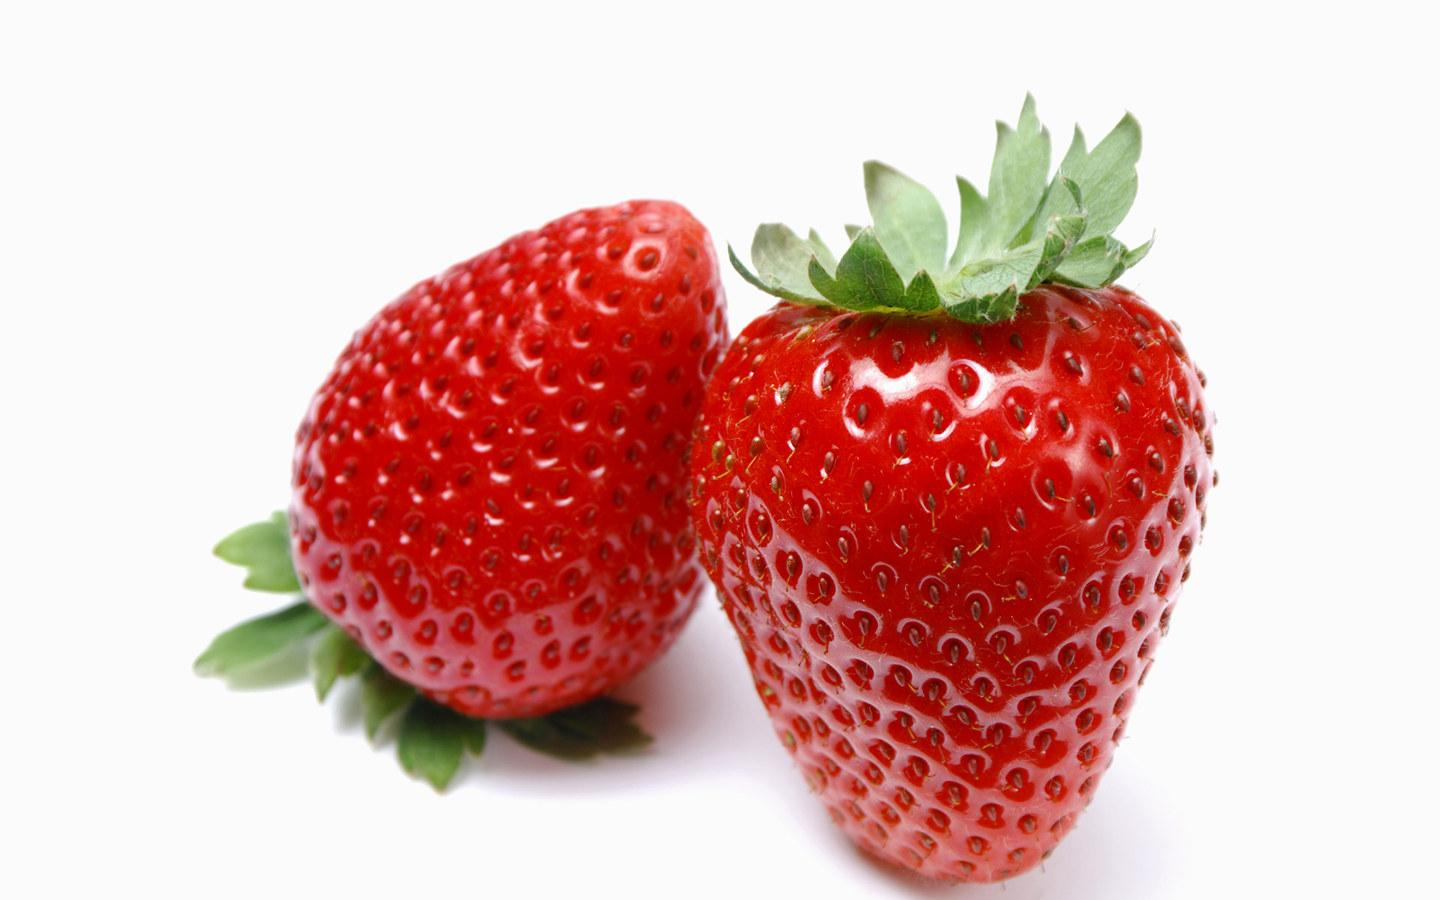strawberry: (680, 138, 1249, 900), (235, 180, 717, 788)
